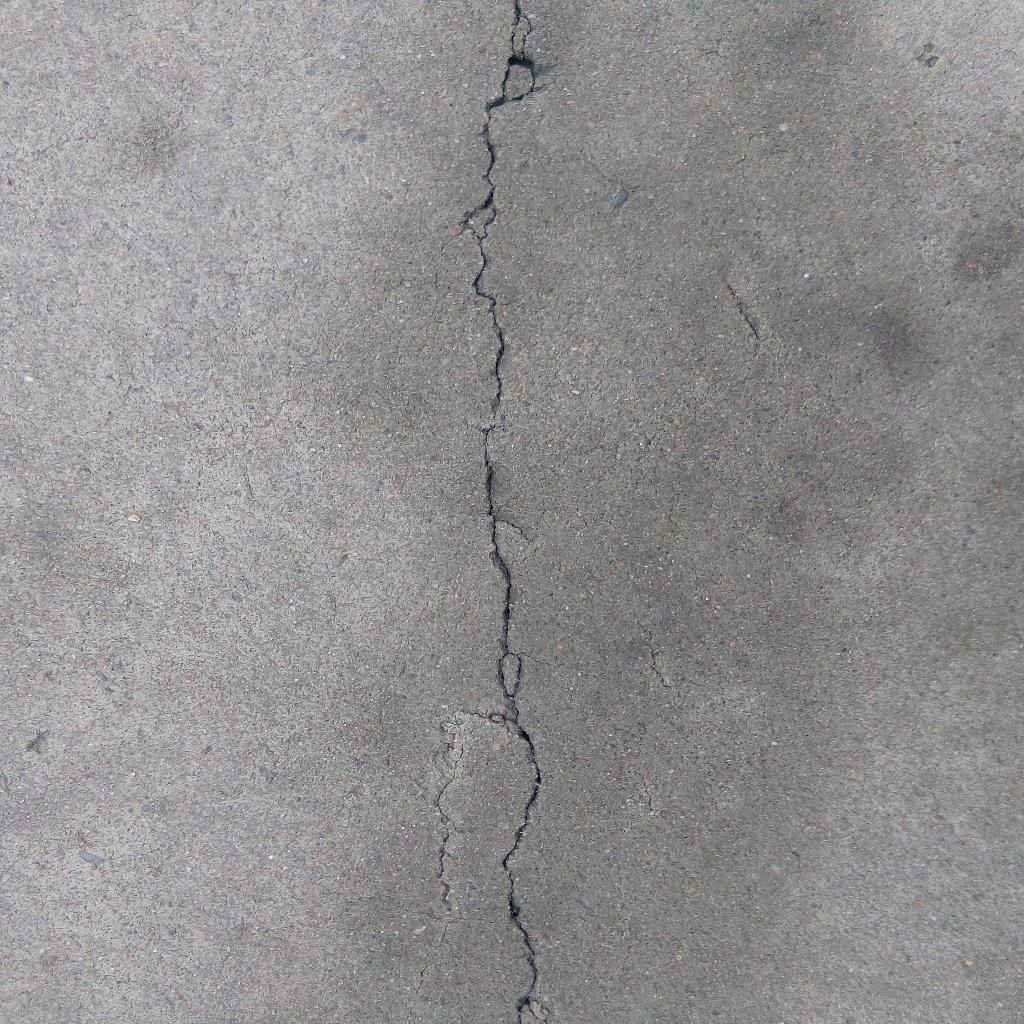Crack: (455, 1, 542, 1024)
